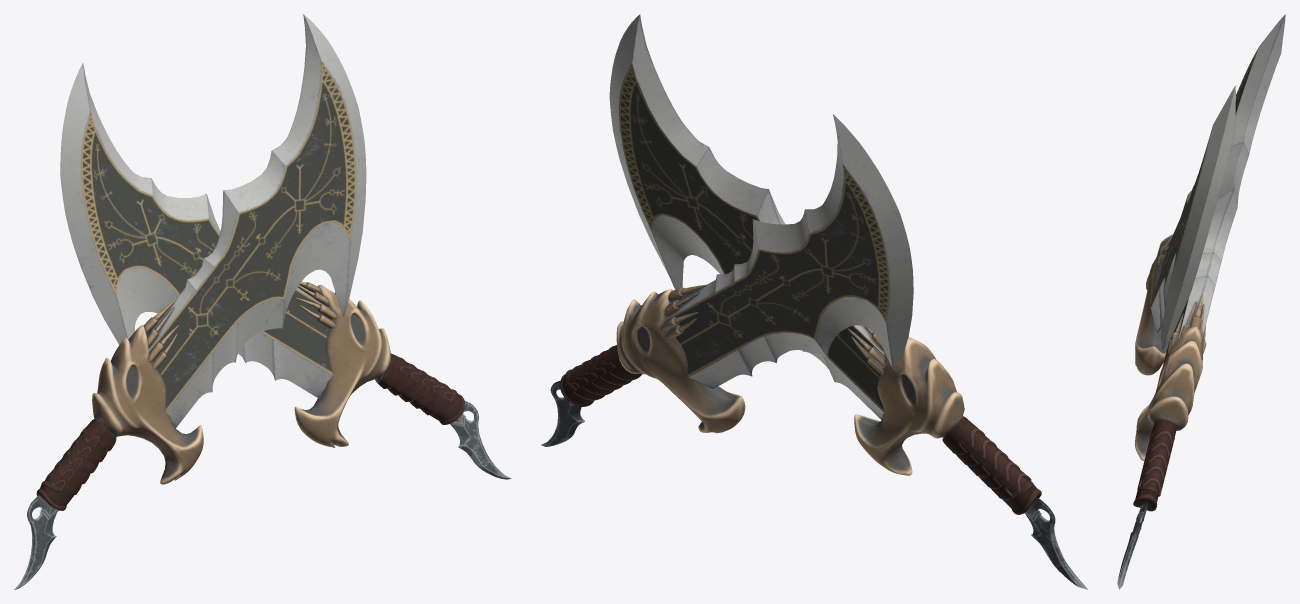
The model's file is the_god_of_war_-_blades_of_chaos.glb.
3 views of the same model, side by side, from view 1: azimuth 30°, elevation 25°; view 2: azimuth 150°, elevation 25°; view 3: azimuth 270°, elevation 25° (orthographic). The views are drawn at different scales.
Visible parts, largest first — view 1: Blade.001, Blade, Circle.020, Circle.017, Circle.019, Circle.016, Plane.061, Plane.060, Cylinder.045, Cylinder.036, Circle.018; view 2: Blade, Blade.001, Circle.020, Circle.017, Circle.019, Circle.016, Plane.061, Plane.060, Cylinder.036, Circle.018; view 3: Blade.001, Blade, Circle.017, Circle.020, Circle.016, Cylinder.036, Plane.060, Circle.015.
Part boxes in pixels (x1,y1,x2,y2): Blade.001: (148,14,366,427); Blade: (60,63,333,398); Circle.020: (92,325,203,484); Circle.017: (294,284,413,447); Circle.019: (45,419,116,495); Circle.016: (375,353,454,415); Plane.061: (14,495,59,589); Plane.060: (450,401,511,479); Cylinder.045: (143,298,178,369); Cylinder.036: (296,281,337,328); Circle.018: (36,476,73,510); Blade: (665,114,913,389); Blade.001: (609,14,884,419); Circle.020: (854,336,964,475); Circle.017: (616,289,745,433); Circle.019: (942,416,1031,500); Circle.016: (567,345,641,400); Plane.061: (1024,497,1087,589); Plane.060: (541,380,584,446); Cylinder.036: (661,284,706,339); Circle.018: (1001,477,1041,514); Blade.001: (1150,85,1235,349); Blade: (1163,14,1285,365); Circle.017: (1135,326,1202,460); Circle.020: (1135,234,1172,375); Circle.016: (1137,419,1176,496); Cylinder.036: (1167,294,1206,354); Plane.060: (1117,501,1147,589); Circle.015: (1133,481,1159,511).
Size of the model in its own units: 8.08 by 7.22 by 2.53.
1 material, 1 textured.
